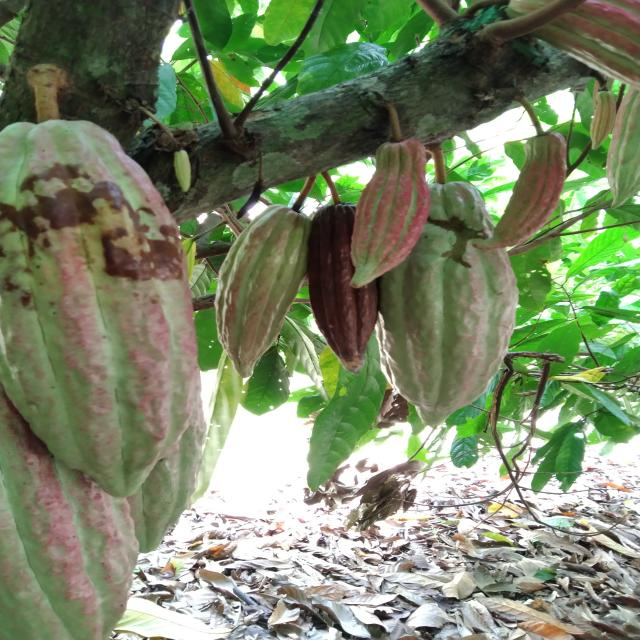Fitoftora: (1, 123, 202, 490), (309, 203, 387, 372)
Sana: (386, 189, 519, 430), (0, 456, 133, 637), (213, 202, 308, 374), (494, 130, 567, 248), (358, 143, 414, 289), (589, 92, 612, 146), (168, 151, 196, 191)
